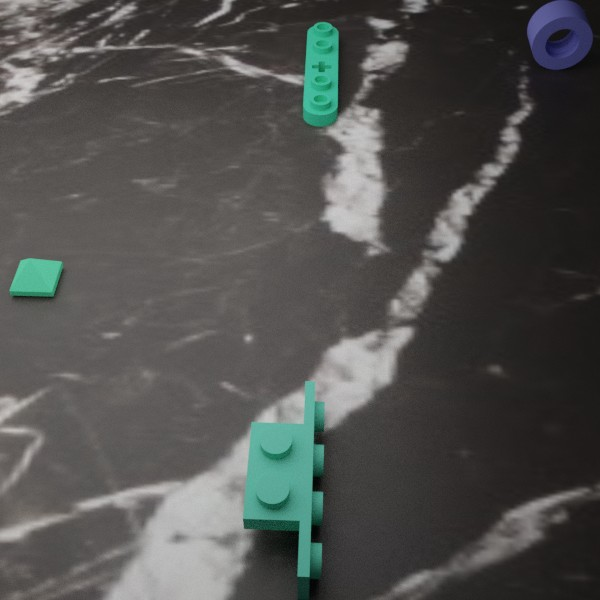lego: (242, 381, 324, 600), (527, 0, 592, 69), (303, 22, 338, 126), (9, 258, 63, 296)
